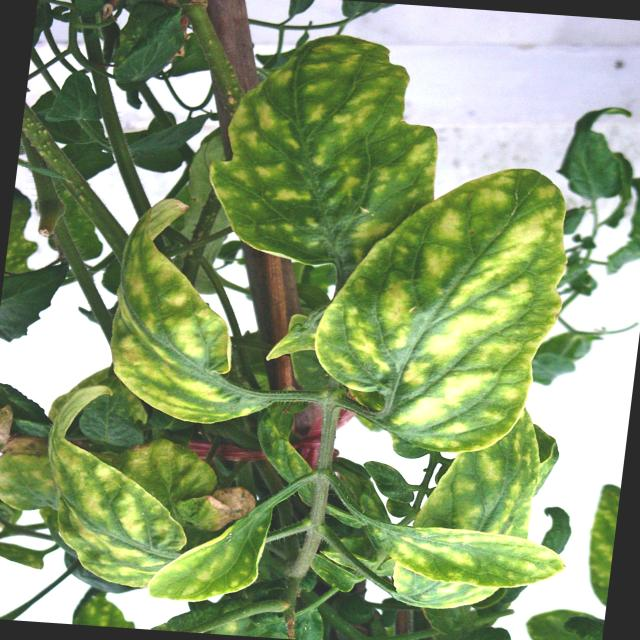Chlorosis: (97, 8, 560, 604)
